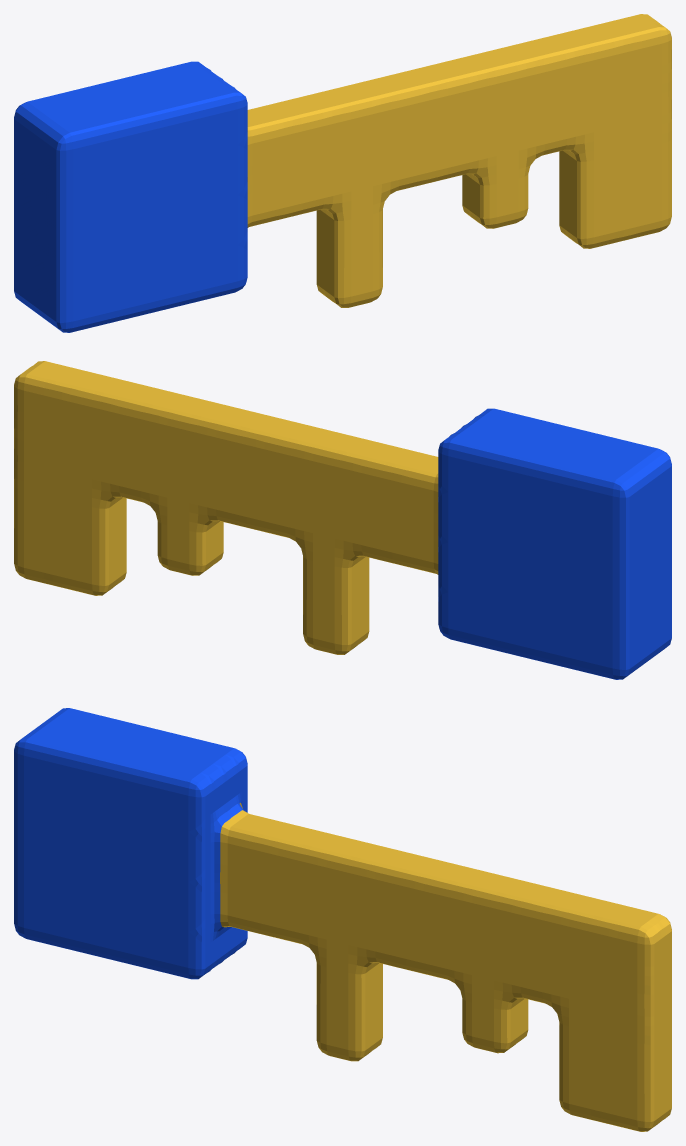
The model's file is BlueKey.fbx.
3 renders of one model, top to bottom at view 1: azimuth 30°, elevation 25°; view 2: azimuth 150°, elevation 25°; view 3: azimuth 330°, elevation 25°, orthographic.
Visible parts, largest first — view 1: Blue Key; view 2: Blue Key; view 3: Blue Key.
Boxes of the visible parts, <box> form: Blue Key: <box>14,14,671,332</box>; Blue Key: <box>14,361,671,679</box>; Blue Key: <box>14,708,671,1131</box>.
Bounding box in the file's own units: 277 × 107 × 37.67.
